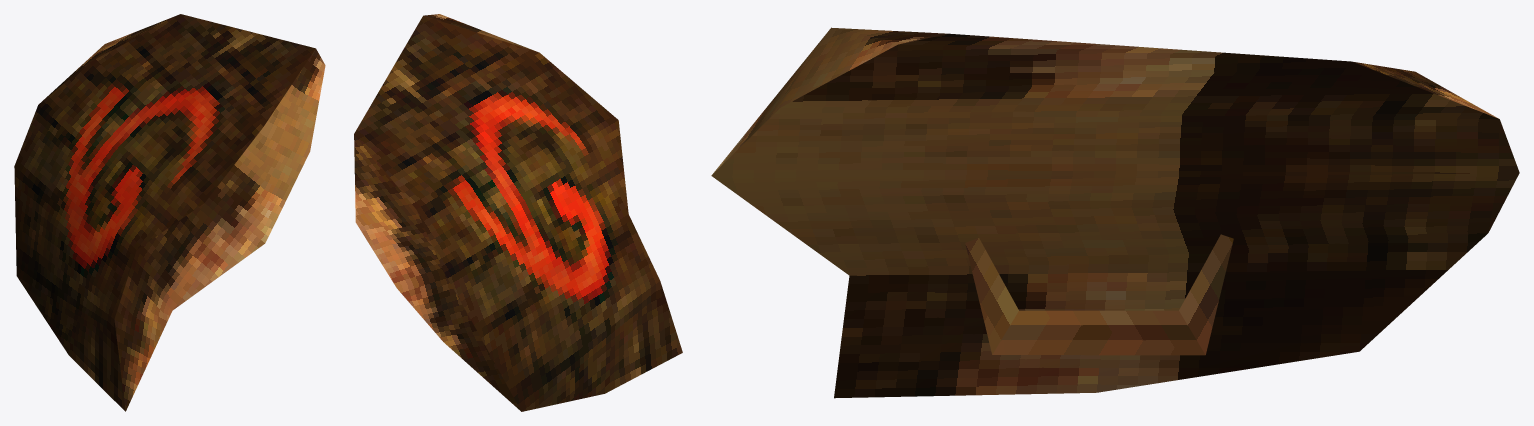
The model's file is shield.obj.
3 renders of one model, left to right at view 1: azimuth 30°, elevation 25°; view 2: azimuth 150°, elevation 25°; view 3: azimuth 270°, elevation 25°, orthographic. The views are drawn at different scales.
Parts seen in each view (by area): view 1: nodes_33__meshes[7]; view 2: nodes_33__meshes[7]; view 3: nodes_33__meshes[7].
Part boxes in pixels (<box>): nodes_33__meshes[7]: <box>14,14,325,411</box>; nodes_33__meshes[7]: <box>354,14,682,411</box>; nodes_33__meshes[7]: <box>711,27,1519,398</box>.
Size of the model in its own units: 39.73 by 50.12 by 63.51.
1 material, 1 textured.
